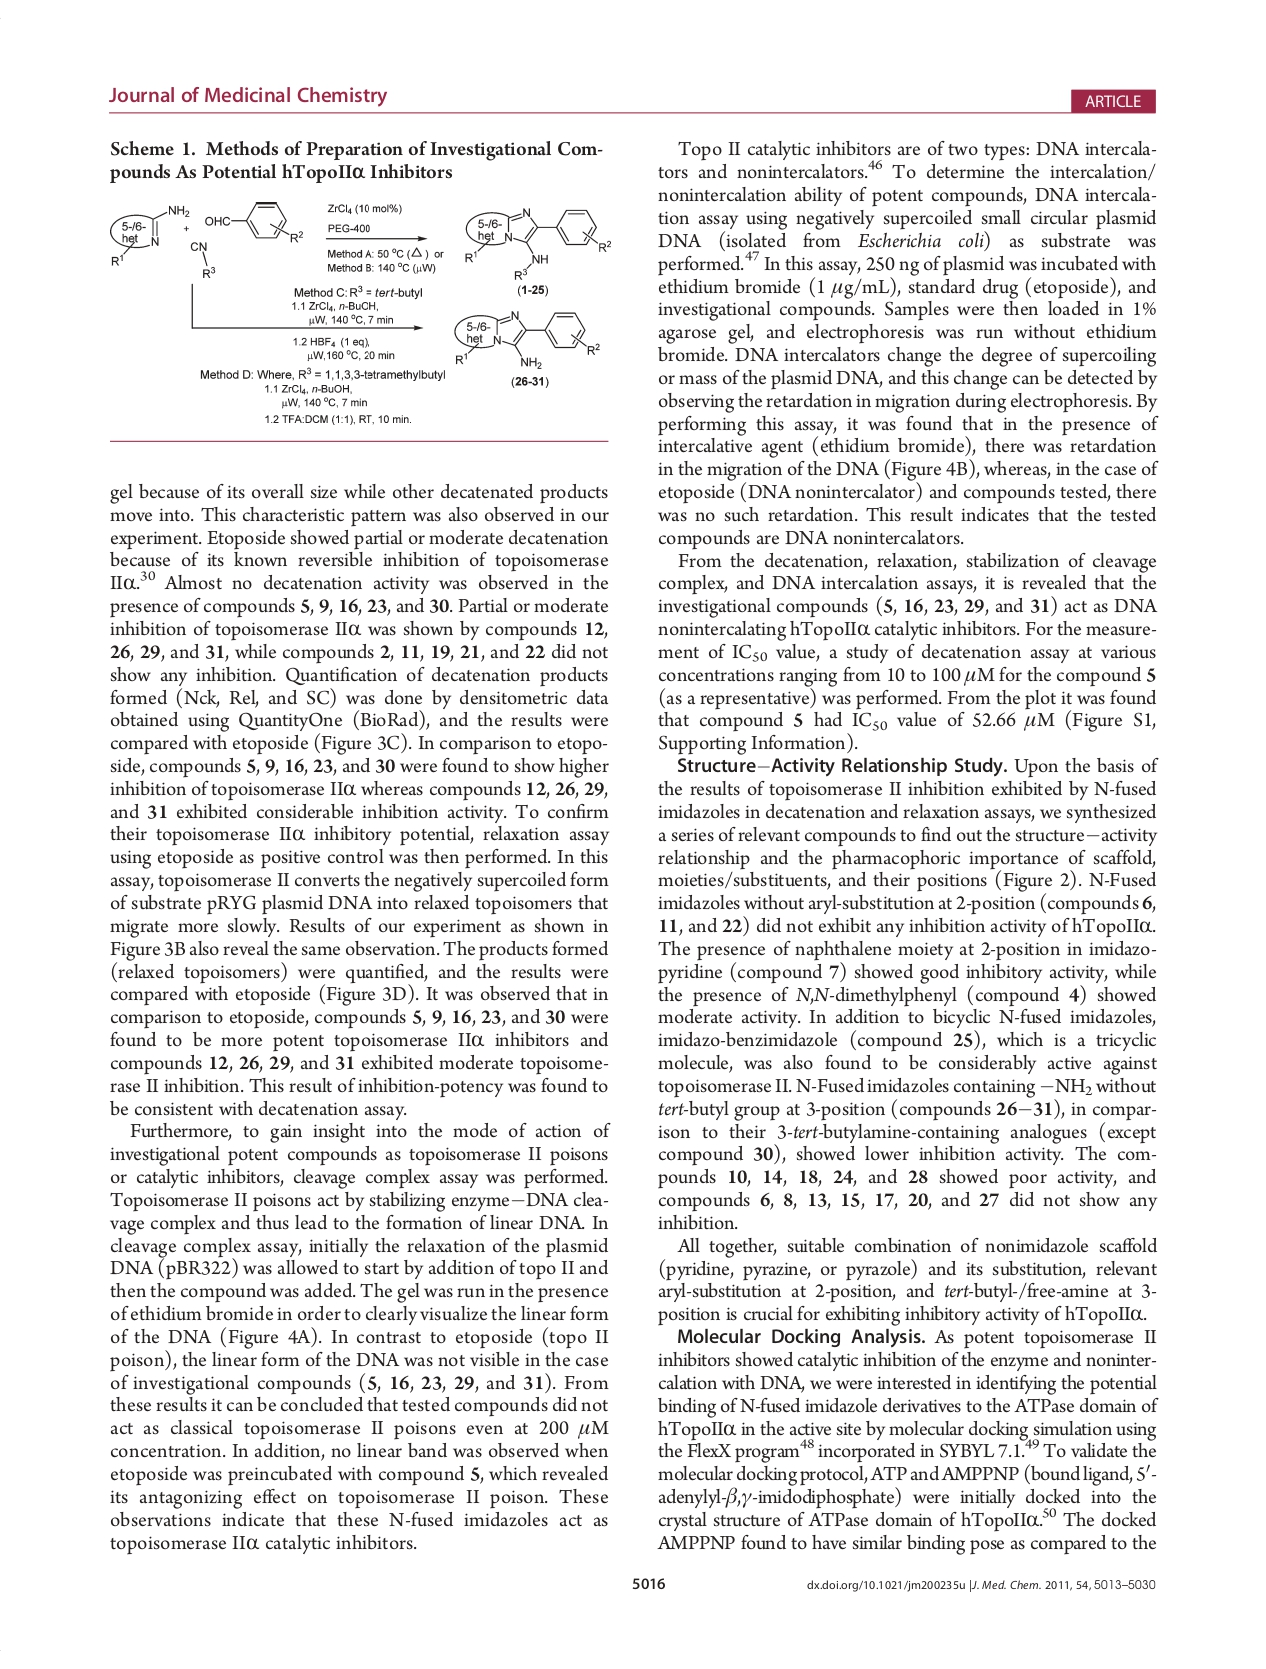exist_molecular: (459, 203, 613, 281), (452, 309, 602, 371), (104, 199, 189, 265), (202, 198, 306, 246)
